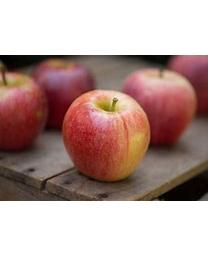apple: (61, 89, 149, 182), (119, 67, 196, 147), (28, 60, 95, 129), (0, 67, 49, 150)
